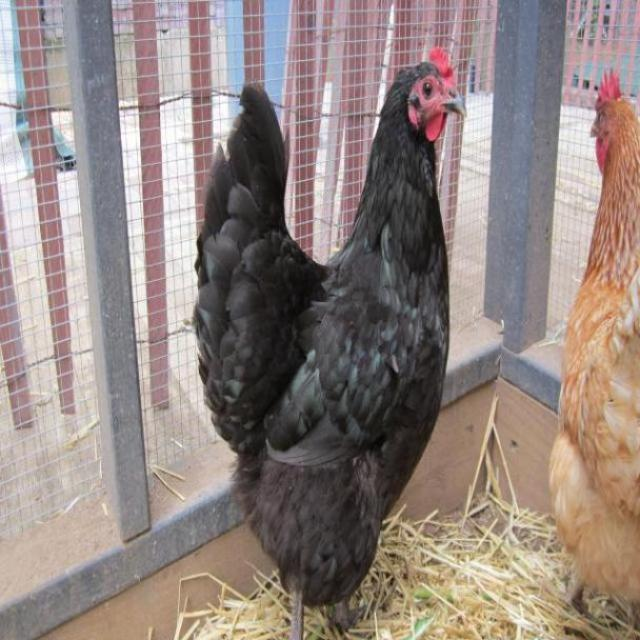Chicken: (192, 47, 461, 640), (560, 82, 640, 365)
